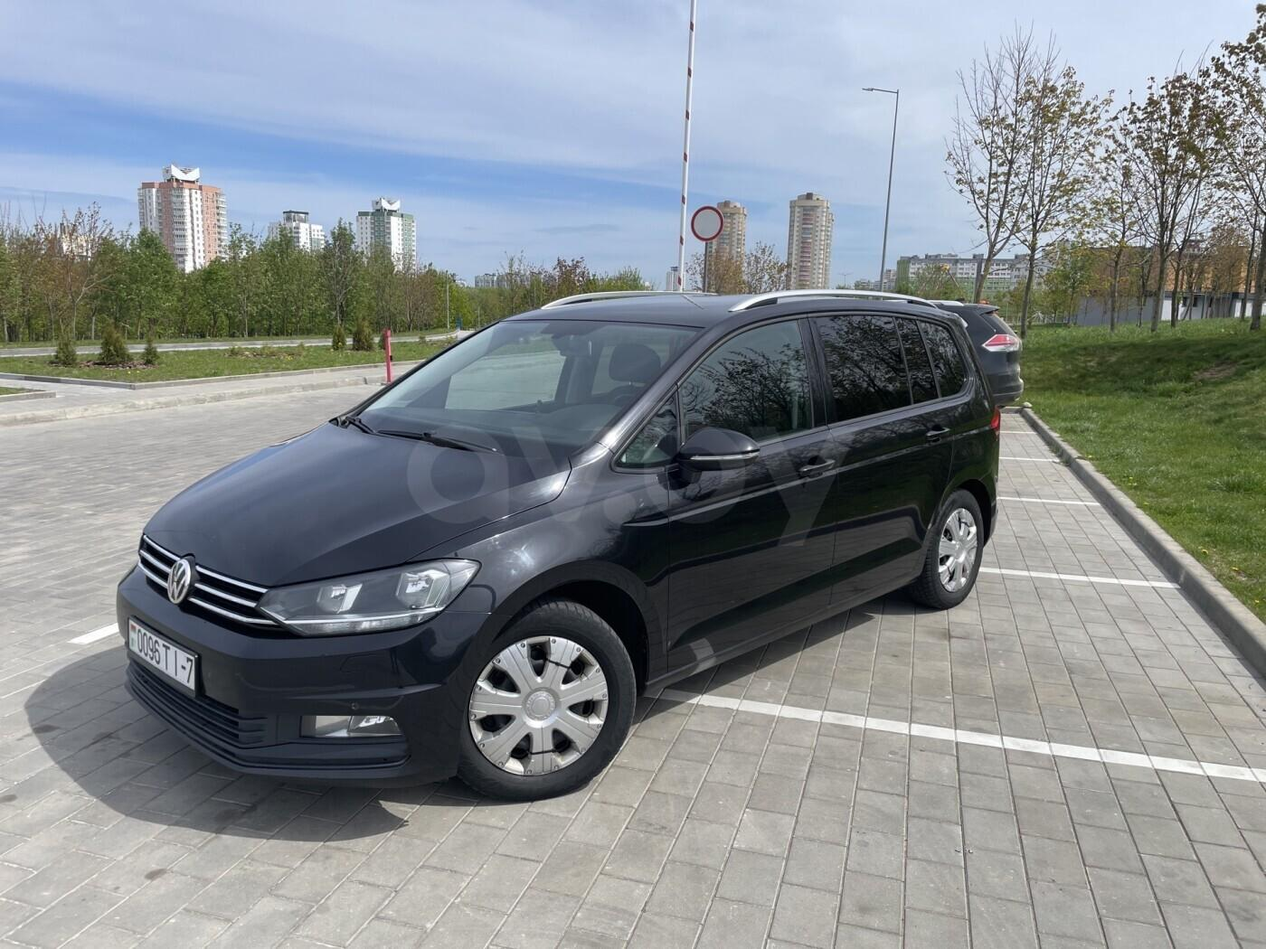Touran_2015: (110, 291, 1005, 799)
